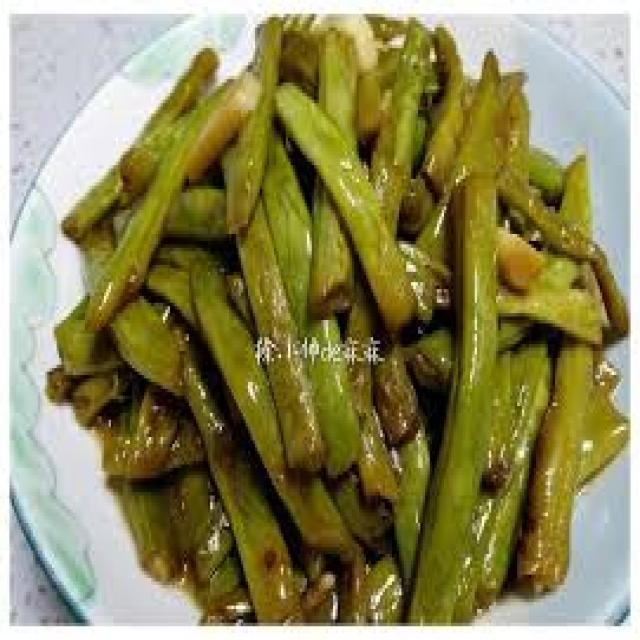organic waste: (180, 244, 354, 550), (402, 79, 498, 633), (172, 320, 300, 623), (80, 68, 236, 310), (510, 152, 593, 596), (272, 79, 416, 334), (340, 14, 428, 420), (57, 45, 224, 227), (493, 158, 626, 330), (474, 327, 552, 602), (302, 21, 359, 310), (116, 69, 229, 189), (85, 210, 191, 323), (231, 14, 286, 213), (402, 21, 454, 227), (558, 348, 628, 492), (104, 286, 196, 388), (94, 385, 198, 475), (106, 182, 232, 248), (498, 262, 598, 341), (187, 69, 260, 175), (184, 506, 241, 626), (118, 471, 175, 578), (387, 416, 425, 572), (52, 293, 125, 372), (498, 66, 532, 220), (250, 21, 322, 93), (366, 334, 416, 437), (163, 464, 220, 544), (354, 544, 402, 626), (62, 362, 134, 416), (489, 220, 538, 289), (408, 323, 456, 392), (321, 14, 376, 72), (454, 523, 484, 623), (520, 138, 566, 203), (302, 554, 338, 626), (338, 554, 366, 626), (43, 358, 85, 402), (364, 10, 406, 45), (156, 234, 203, 258)
